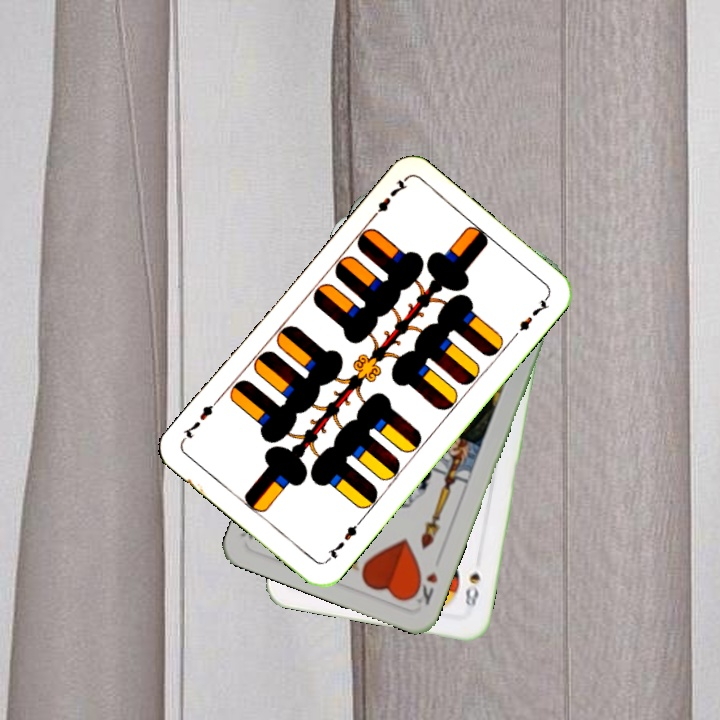E7: (365, 175, 410, 224), (321, 516, 364, 565)
HK: (407, 568, 441, 608)
S8: (461, 569, 483, 616)
